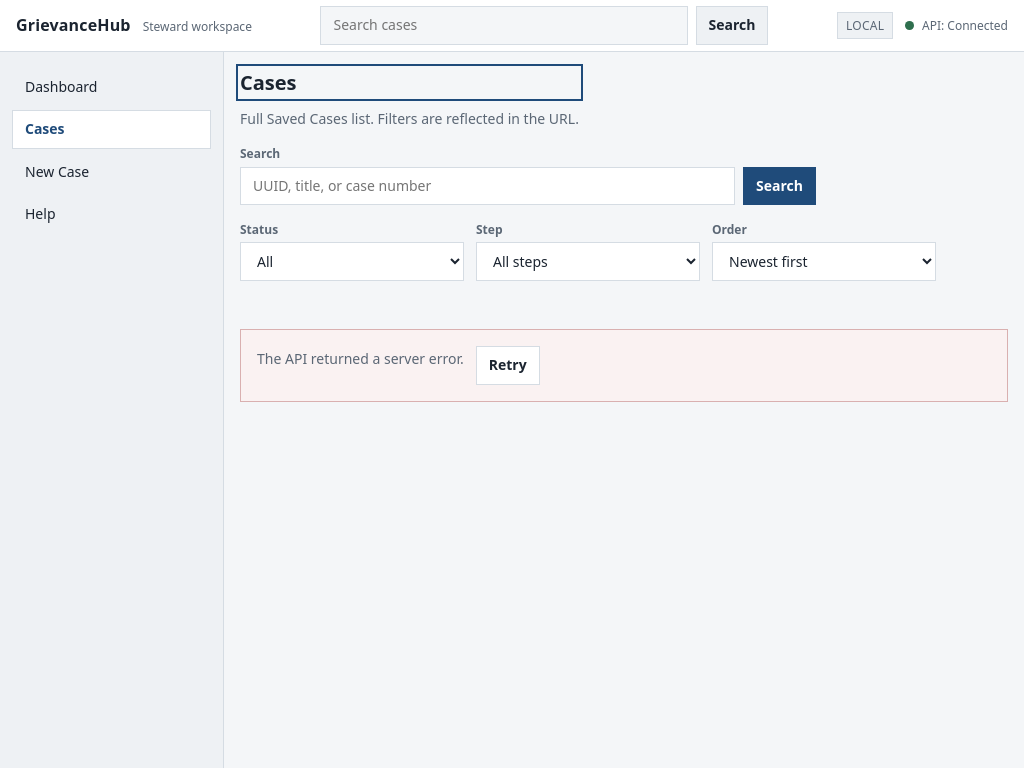
Test case: Saved Cases M1 › shows an accessible error with retry when the list fails
Check: the message "The API returned a server error. Retry" is shown, box [240,329,1008,402]
Click the button "Retry" at [508, 366], box [476,346,540,385]
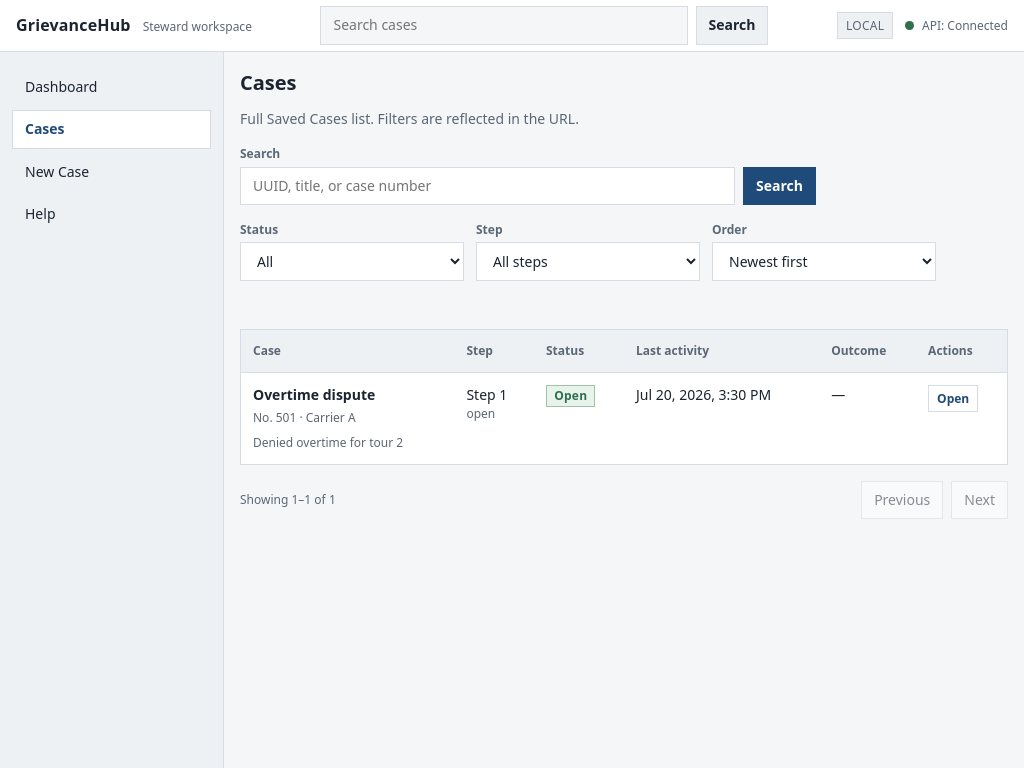
Check: the button named "Open Overtime dispute" is shown, box [253,385,442,426]
